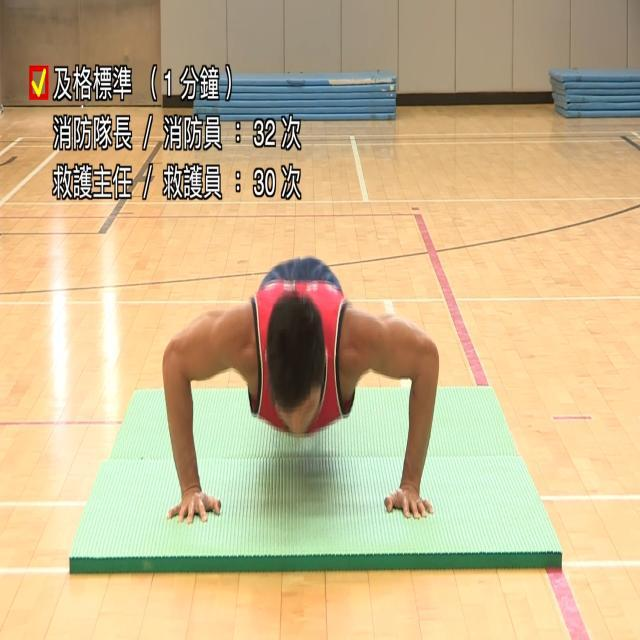9_cabeza_baja: (266, 291, 327, 437)
